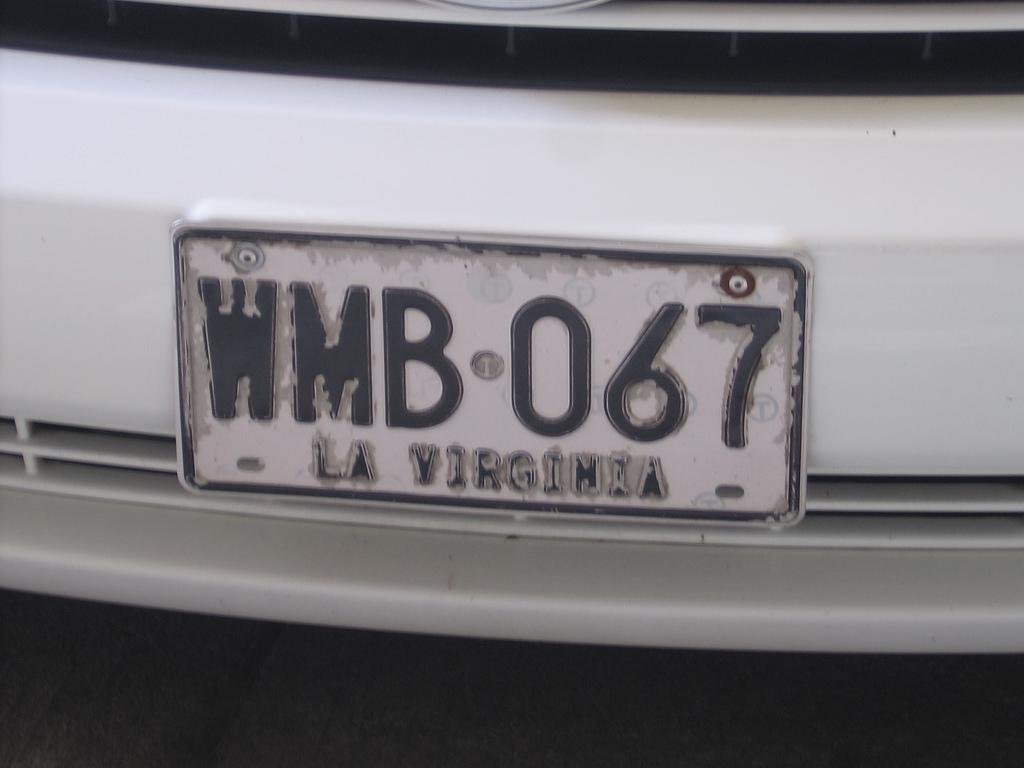placas: (168, 214, 820, 532)
